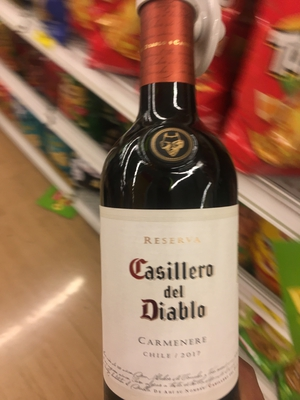casillero del diablo carmenere: (86, 17, 264, 400)
